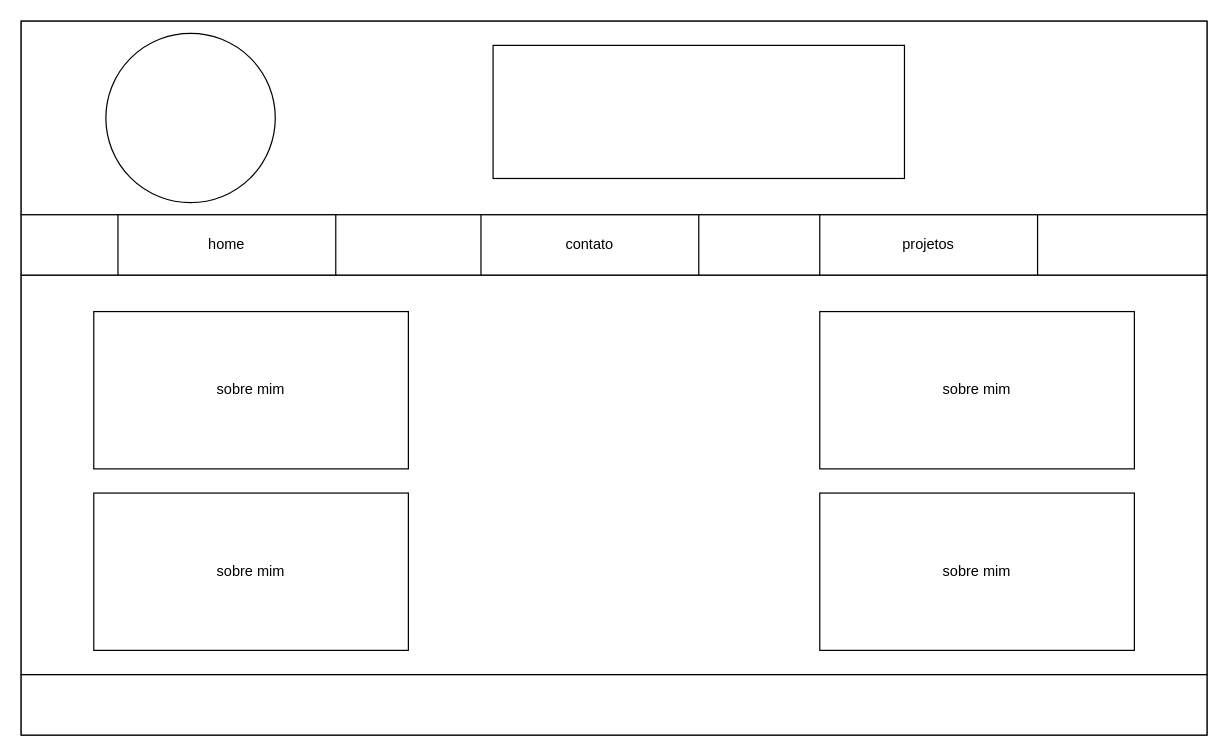
Some shapes in this 1228 by 756 pixel diagram are drawn without their labels. Here are the shapes that lost their labels. From the top down, the box of each, then its label:
(105, 32, 275, 203): foto
(492, 44, 904, 178): nome
(20, 274, 1207, 675): body
(20, 673, 1207, 735): footer
